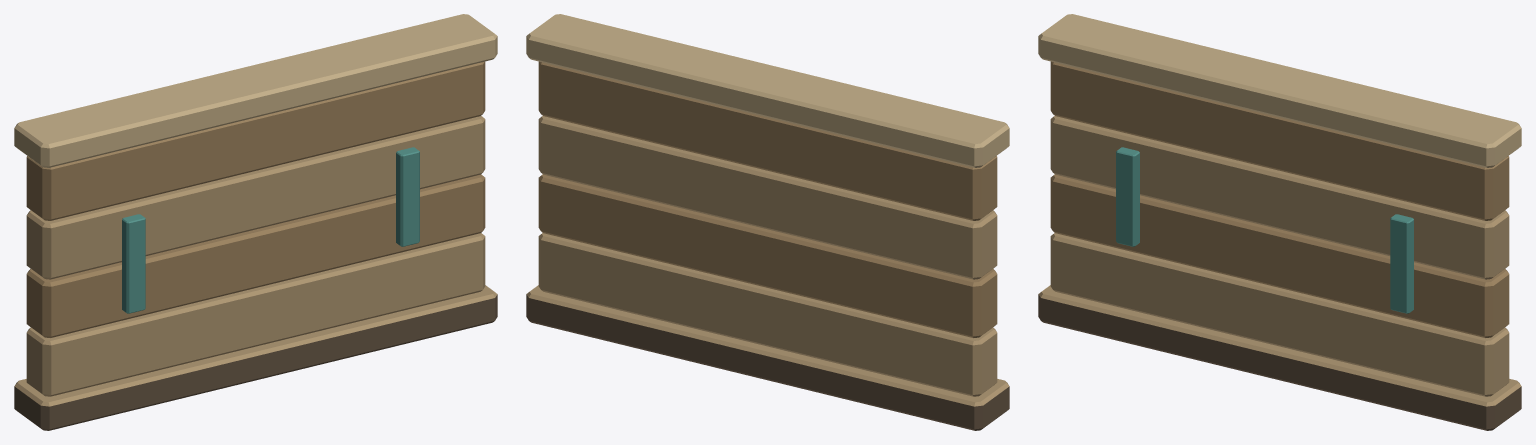
File: platform-edge.glb
3 views of the same model, side by side, from view 1: azimuth 30°, elevation 25°; view 2: azimuth 150°, elevation 25°; view 3: azimuth 330°, elevation 25° (orthographic).
Visible parts, largest first — view 1: platform-edge__body; view 2: platform-edge__body; view 3: platform-edge__body.
Part boxes in pixels (x1,y1,x2,y2): platform-edge__body: (14, 14, 497, 430); platform-edge__body: (526, 14, 1009, 430); platform-edge__body: (1038, 14, 1521, 430).
Bounding box in the file's own units: 2 × 1.2 × 0.263.
